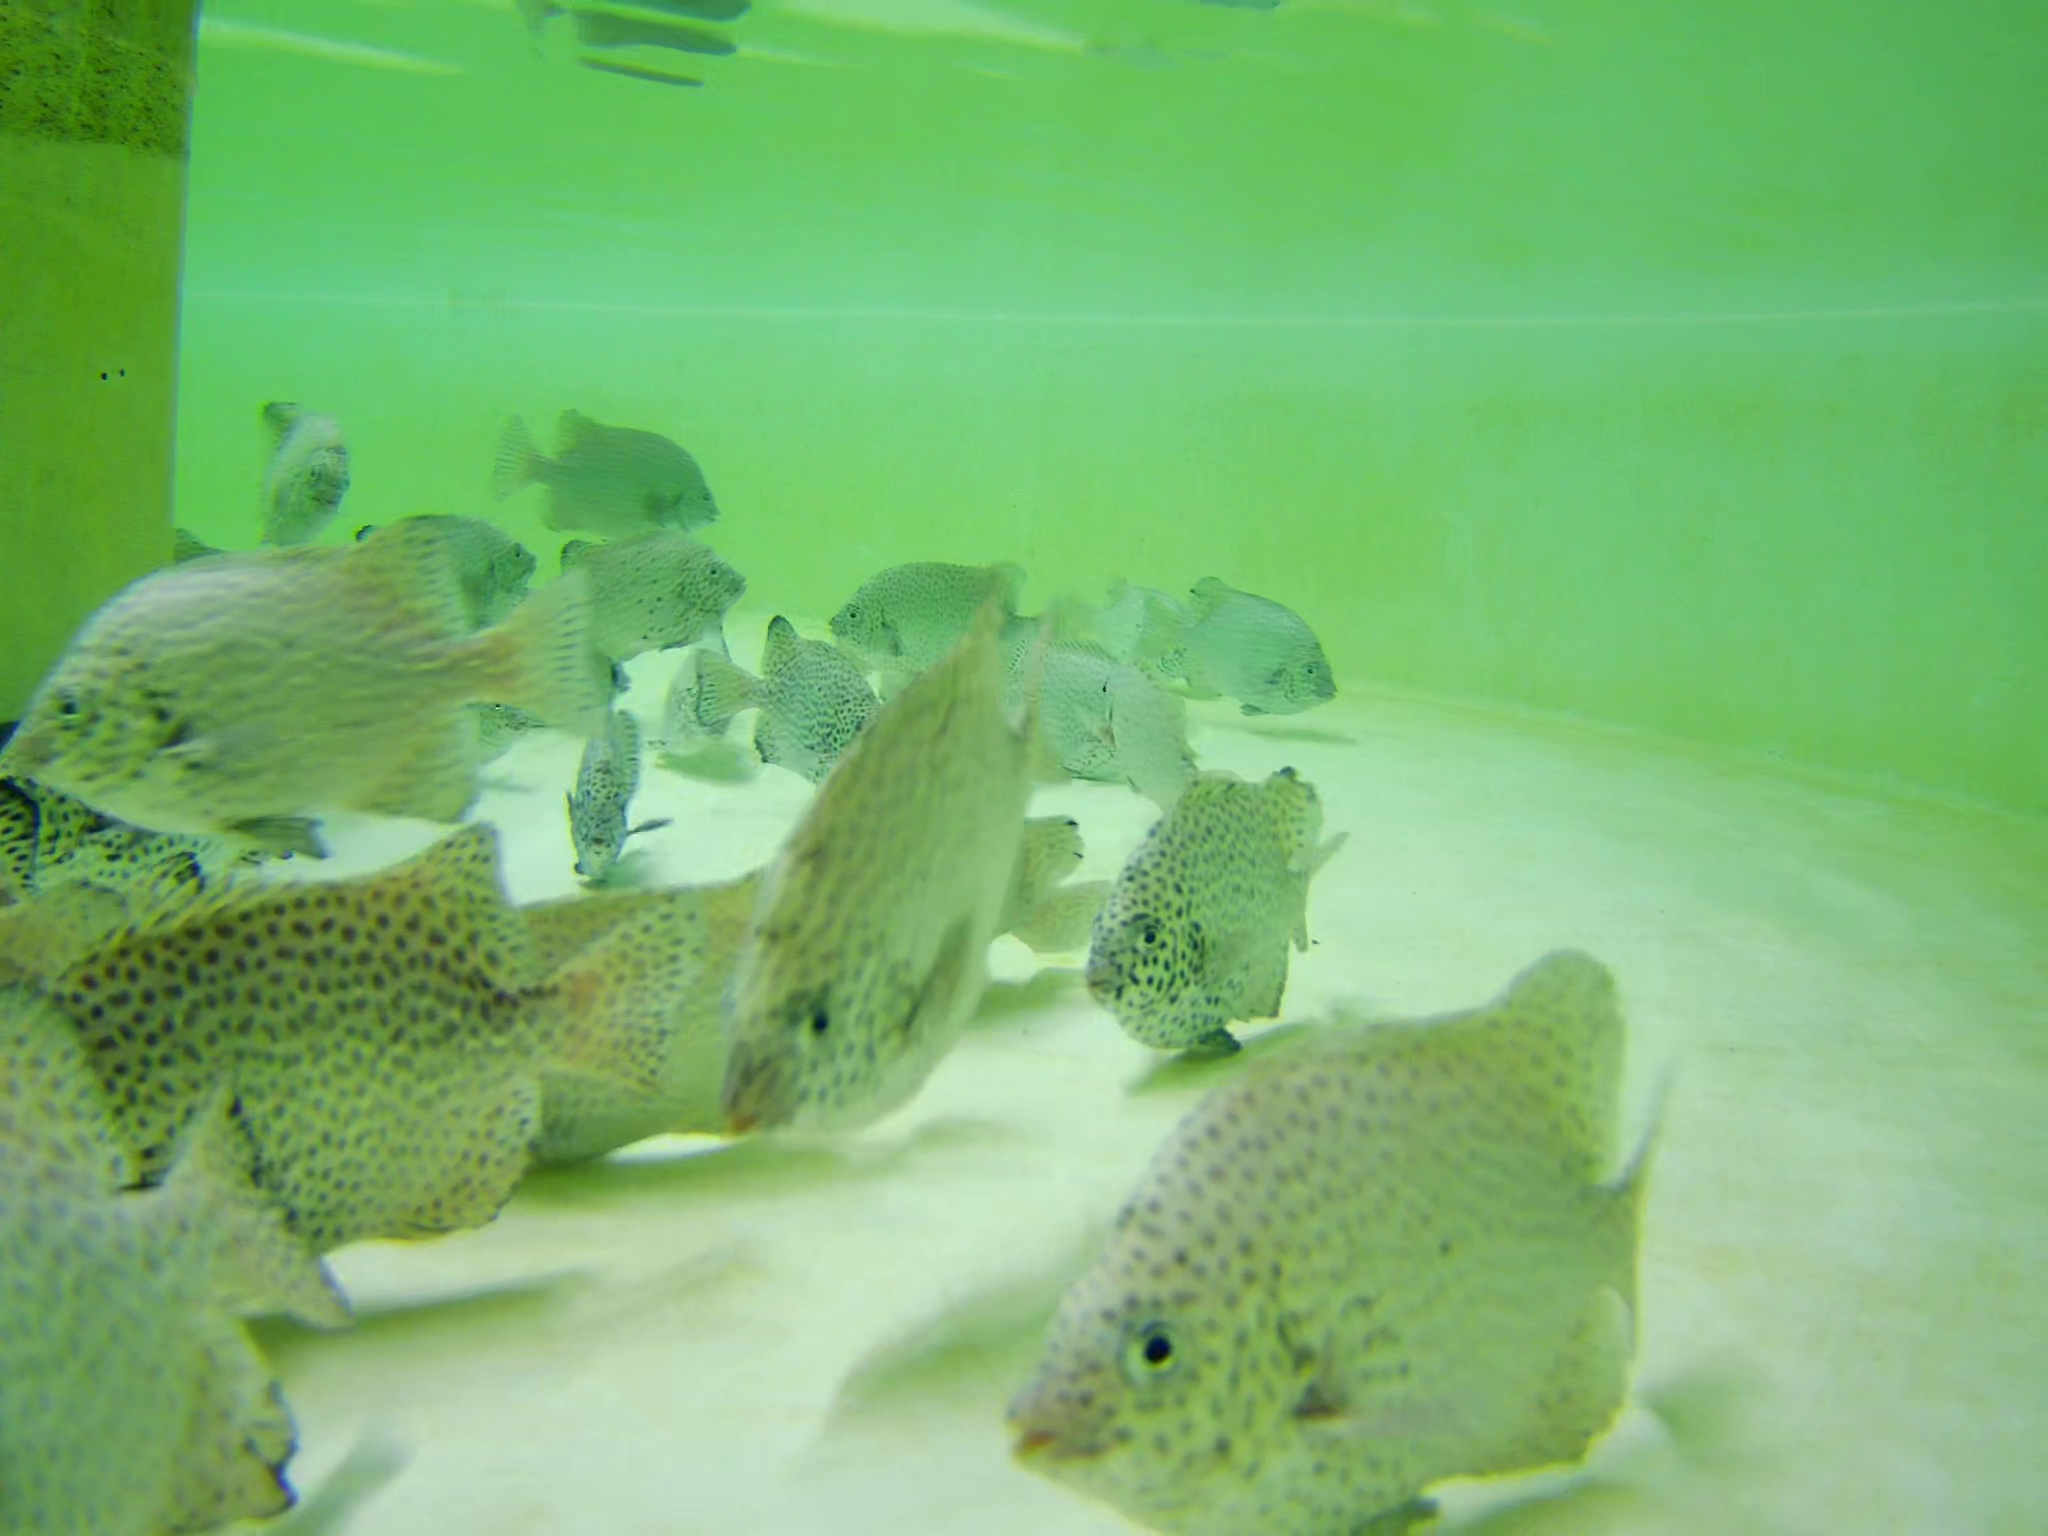fish: (985, 929, 1682, 1536), (53, 824, 740, 1229), (2, 934, 374, 1536), (719, 623, 1077, 1167), (6, 524, 605, 831), (432, 873, 842, 1160), (1085, 766, 1348, 1052), (2, 731, 335, 889), (829, 561, 1109, 673), (693, 618, 880, 778), (492, 402, 721, 528), (1135, 574, 1335, 710), (545, 534, 750, 663), (561, 700, 663, 871), (339, 518, 531, 605), (256, 389, 353, 536), (650, 650, 742, 760), (661, 649, 727, 758)
